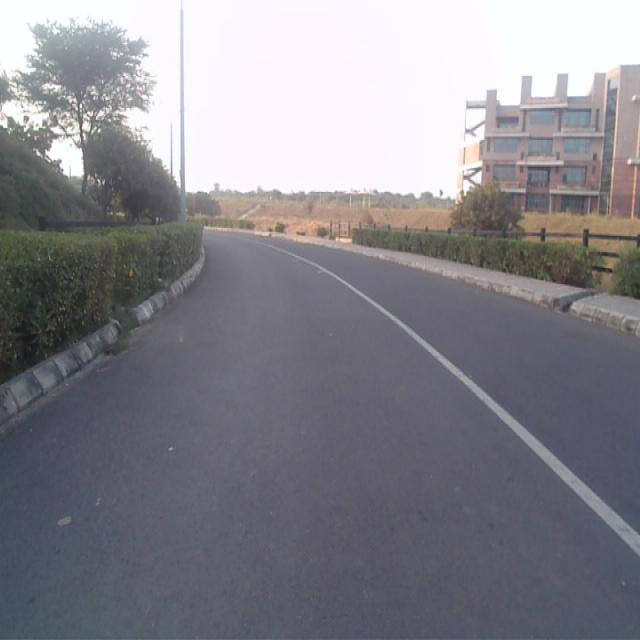lane: (0, 231, 640, 640)
